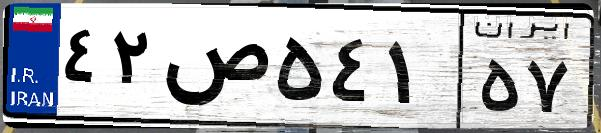1: (385, 28, 445, 110)
2: (110, 28, 158, 98)
4: (330, 28, 385, 110), (57, 26, 110, 100)
5: (270, 28, 330, 110), (475, 38, 525, 113)
7: (525, 38, 570, 115)
ص: (158, 20, 270, 120)
